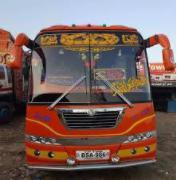bus: (12, 23, 175, 171)
